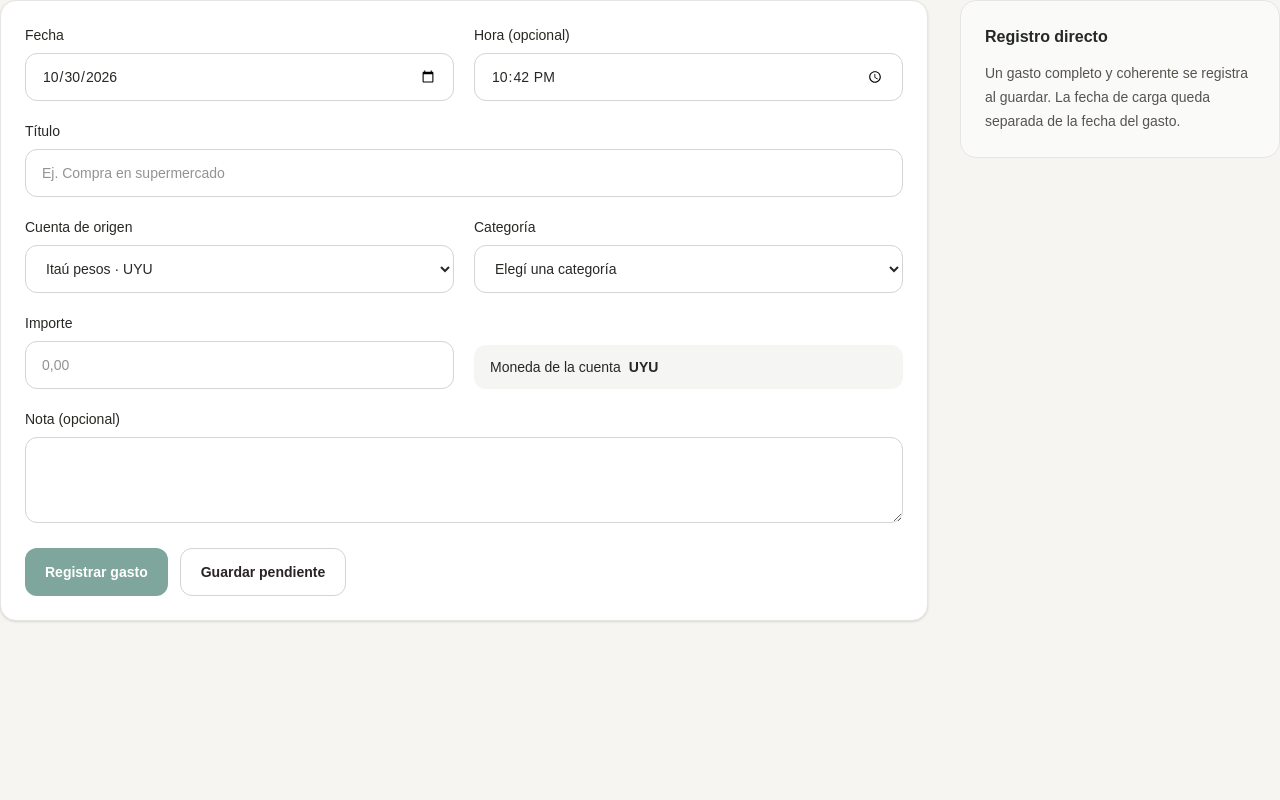
Scenario: formulario de gasto manual › advierte el saldo negativo con formatos de miles inequívocos
Type "1.200,50" into the field labelled "Importe". click: (240, 365)
box: [25,341,454,389]
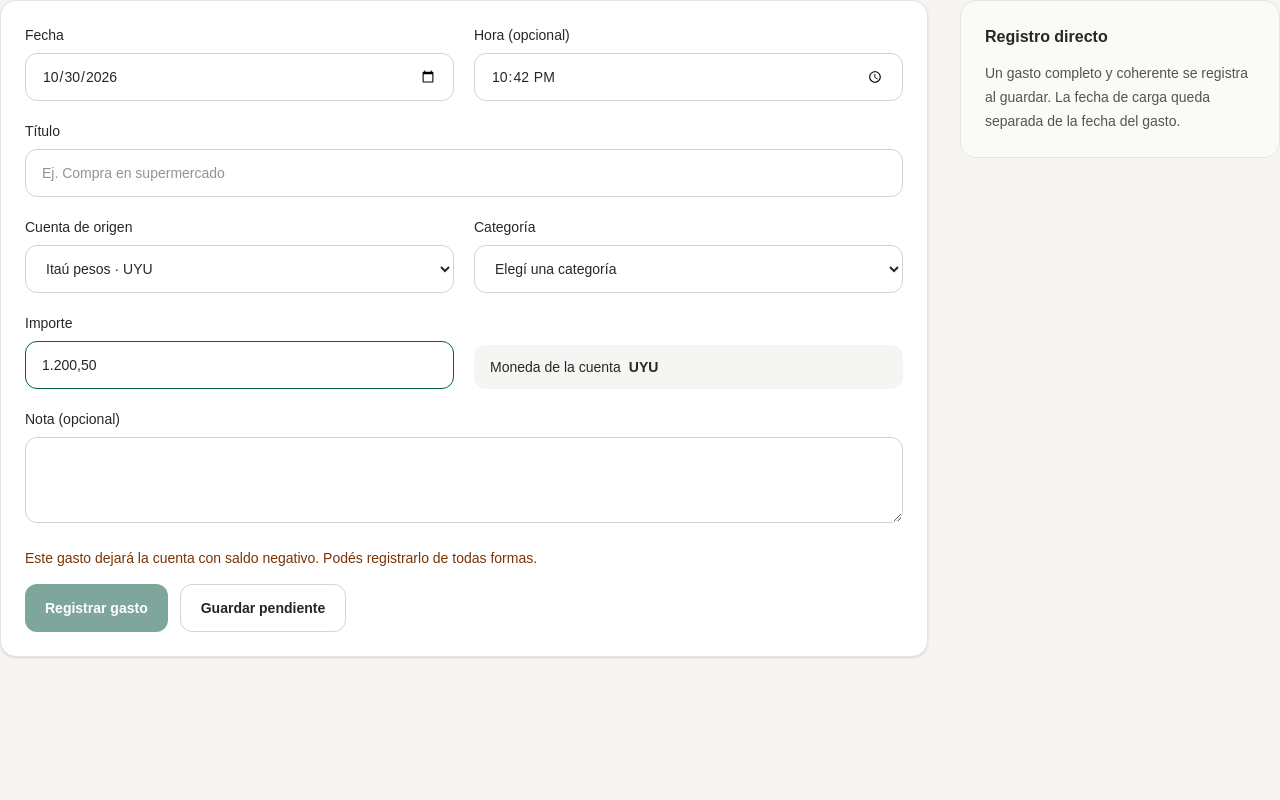
Expected: the text "saldo negativo" is shown, [25,550,537,566]
